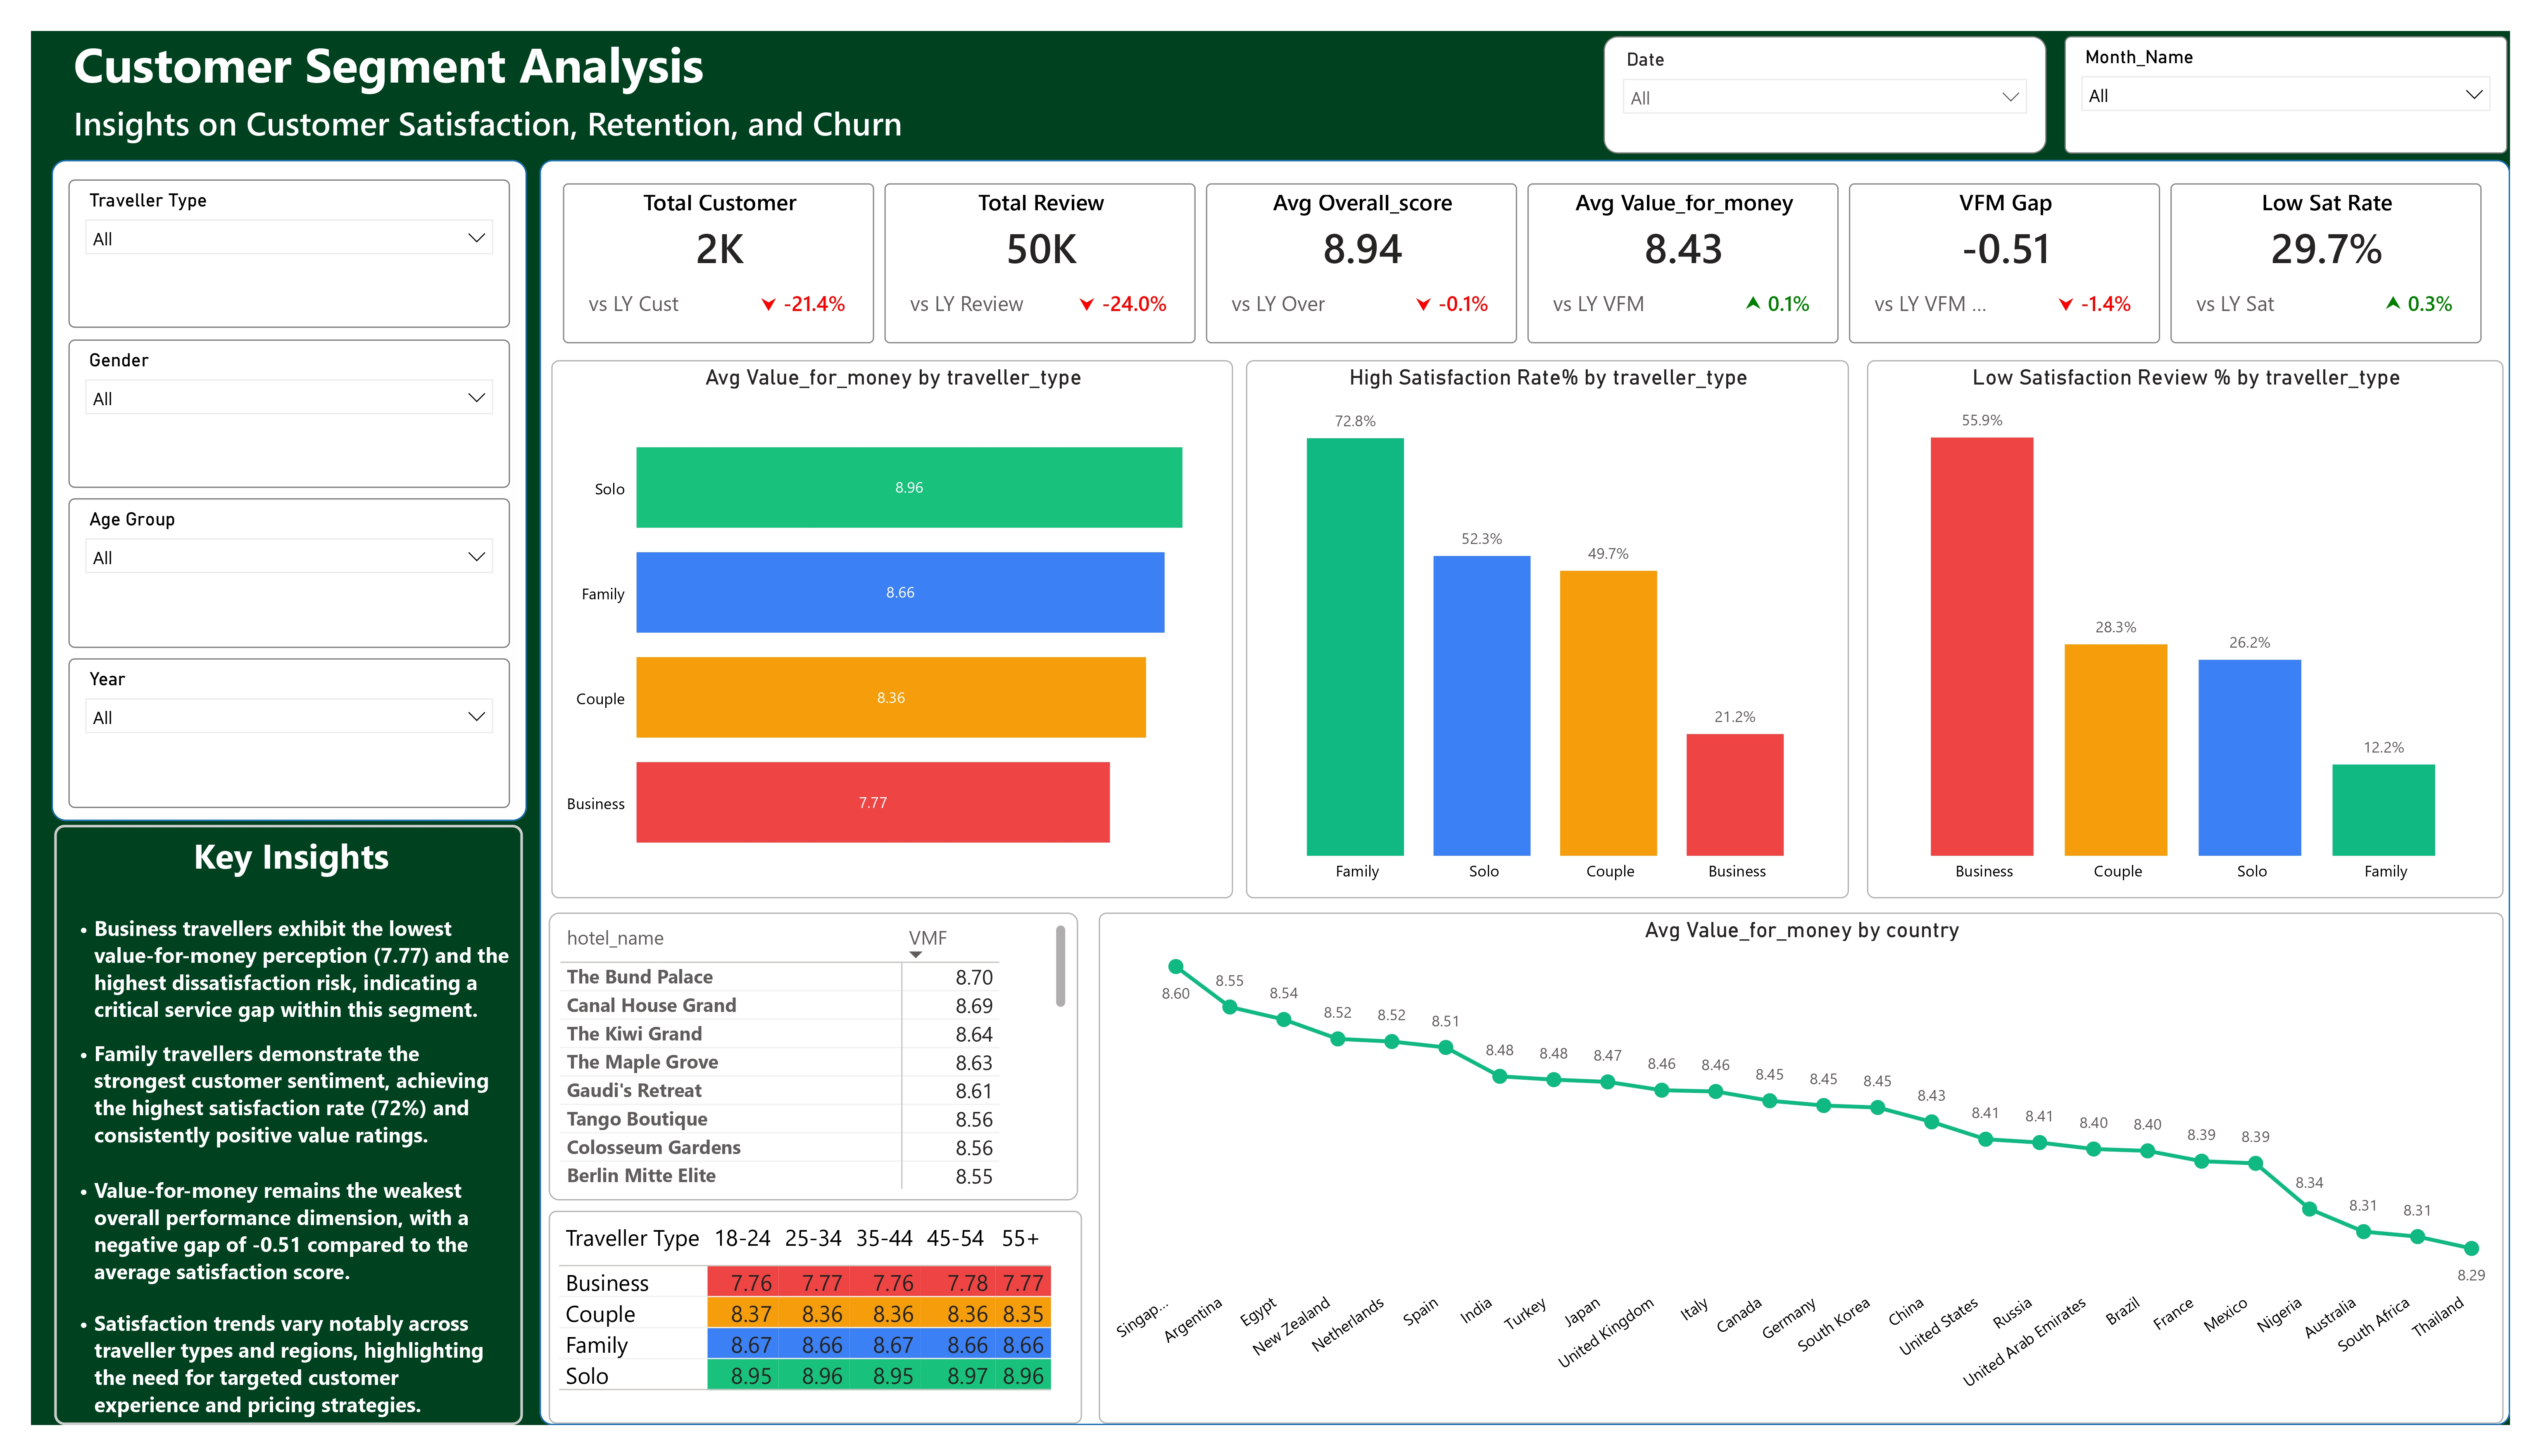

What the dashboard file says about the page in this screenshot:
{"tool":"powerbi","page":{"name":"Customer Segment Analysis","canvas":[1920,1080],"ordinal":1},"visuals":[{"type":"shape","box":[394,100,1526,980],"z":0},{"type":"barChart","fields":{"Category":["users.traveller_type"],"Y":["Measure.Aov Value_for_money"]},"box":[402.5,255.3,528.2,416.3],"z":1000},{"type":"columnChart","fields":{"Category":["users.traveller_type"],"Y":["Measure.Low Satisfaction Rate%"]},"box":[1421.7,255.3,492.9,416.3],"z":3000},{"type":"lineChart","fields":{"Category":["users.country"],"Y":["Measure.Aov Value_for_money"]},"box":[827.1,683.4,1087.5,395.9],"z":4000},{"type":"pivotTable","fields":{"Rows":["users.traveller_type"],"Columns":["users.age_group"],"Values":["Measure.Aov Value_for_money"]},"box":[401.4,913.9,412.2,165.4],"z":5000},{"type":"shape","box":[16.4,100.2,367.5,512],"z":6000},{"type":"slicer","fields":{"Values":["users.traveller_type"]},"box":[28.8,114.7,342.7,115.6],"z":7000},{"type":"slicer","fields":{"Values":["users.user_gender"]},"box":[28.8,238.5,342.7,115.6],"z":8000},{"type":"slicer","title":"Age_Group","fields":{"Values":["users.age_group"]},"box":[28.8,362.4,342.7,115.6],"z":9000},{"type":"slicer","fields":{"Values":["Date.Year"]},"box":[28.8,486.3,342.7,115.6],"z":10000},{"type":"textbox","title":"Customer Segment Analysis","box":[28,0,700,90],"z":11000},{"type":"slicer","title":"Age_Group","fields":{"Values":["Date.Month_Name"]},"box":[1575.2,4.1,342.7,90.8],"z":12000},{"type":"slicer","title":"Age_Group","fields":{"Values":["Date.Date"]},"box":[1218.1,4.1,342.7,90.8],"z":13000},{"type":"shape","title":"Key Insights","box":[17.6,614.9,363.7,465.1],"z":14000},{"type":"columnChart","fields":{"Category":["users.traveller_type"],"Y":["Measure.High Satisfaction Rate%"]},"box":[940.6,255.3,467.3,416.3],"z":15000},{"type":"textbox","box":[19.8,678.9,361.5,97],"z":16000},{"type":"textbox","box":[19.8,775.8,350.4,105.8],"z":17000},{"type":"textbox","box":[19.8,881.6,350.4,103.6],"z":18000},{"type":"textbox","box":[19.8,985.2,350.4,94.8],"z":19000},{"type":"pivotTable","fields":{"Rows":["hotels.hotel_name"],"Values":["Measure.Aov Value_for_money"]},"box":[401.4,683.4,409.5,222.4],"z":20000},{"type":"cardVisual","fields":{"Data":["Measure.Total Customer","Measure.Total Review","Measure.Aov Overall_score","Measure.Avg Value_for_money","Measure.Gap VMF","Measure.Low Satisfaction Review %"]},"box":[394.5,101.4,1525.2,154.3],"z":20001}]}

Visuals, with their boxes on the page's 1920x1080 design canvas (x1, y1, x2, y2). These are canvas units, not pixel positions in the 2541x1456 screenshot, which may show the page scaled, cropped or inside an application window:
shape: 394,100,1920,1080
barChart - users.traveller_type x Measure.Aov Value_for_money: 402,255,931,672
columnChart - users.traveller_type x Measure.Low Satisfaction Rate%: 1422,255,1915,672
lineChart - users.country x Measure.Aov Value_for_money: 827,683,1915,1079
pivotTable - users.traveller_type x users.age_group: 401,914,814,1079
shape: 16,100,384,612
slicer - users.traveller_type: 29,115,372,230
slicer - users.user_gender: 29,238,372,354
"Age_Group" slicer: 29,362,372,478
slicer - Date.Year: 29,486,372,602
"Customer Segment Analysis" textbox: 28,0,728,90
"Age_Group" slicer: 1575,4,1918,95
"Age_Group" slicer: 1218,4,1561,95
"Key Insights" shape: 18,615,381,1080
columnChart - users.traveller_type x Measure.High Satisfaction Rate%: 941,255,1408,672
textbox: 20,679,381,776
textbox: 20,776,370,882
textbox: 20,882,370,985
textbox: 20,985,370,1080
pivotTable - hotels.hotel_name x Measure.Aov Value_for_money: 401,683,811,906
cardVisual - Measure.Total Customer x Measure.Total Review: 394,101,1920,256
